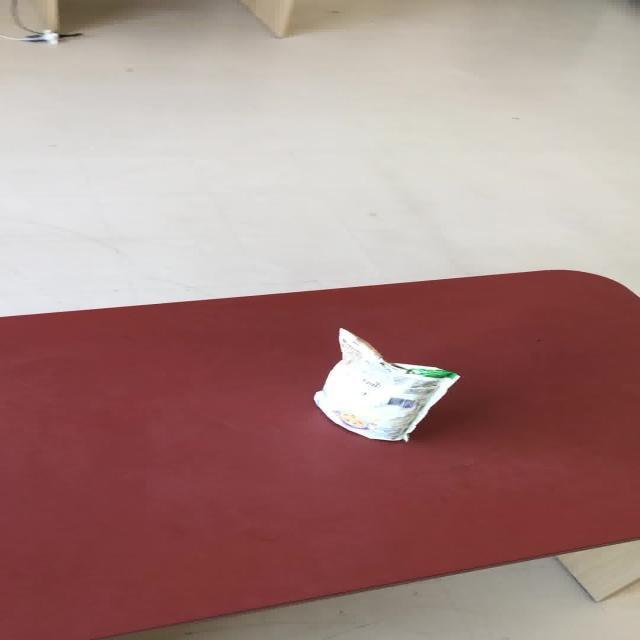corn flakes: (312, 327, 460, 442)
